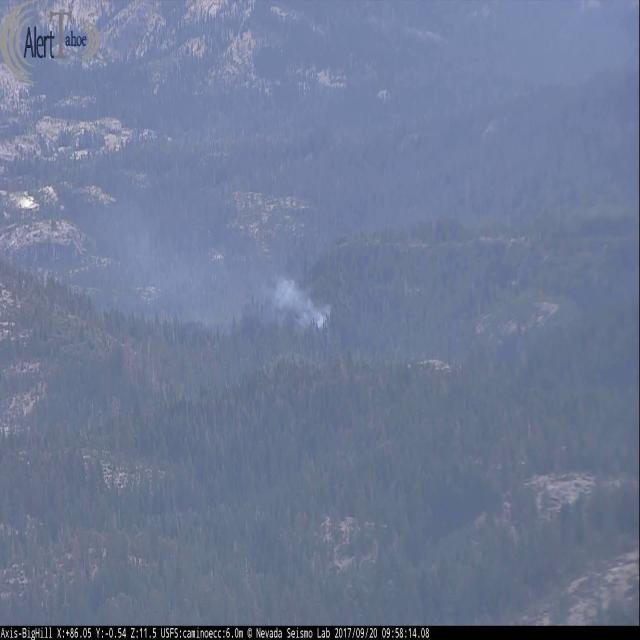smoke: (89, 162, 332, 333)
